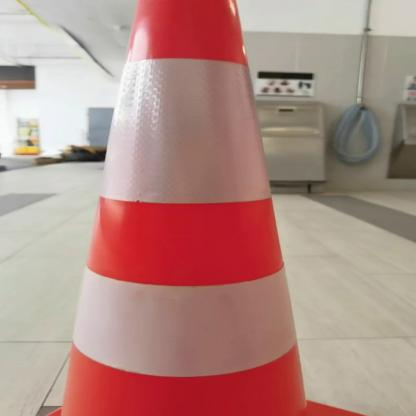cone: (29, 0, 381, 416)
